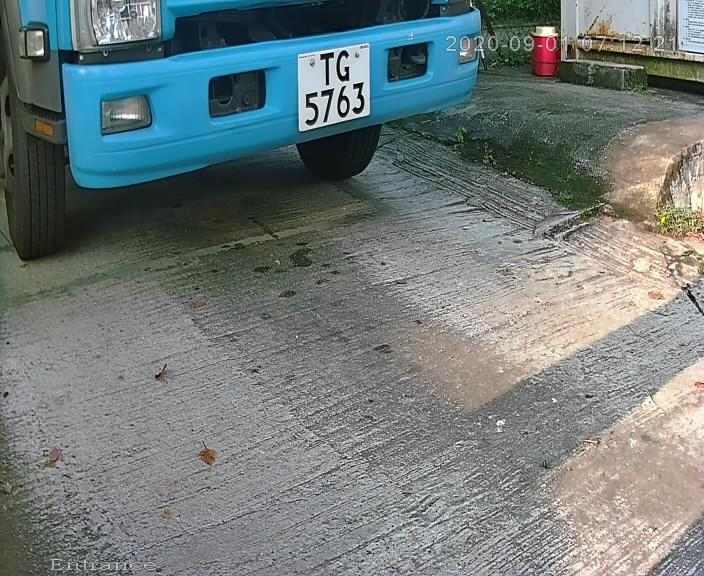Car: (10, 8, 478, 247)
License Plate: (277, 39, 384, 142)
